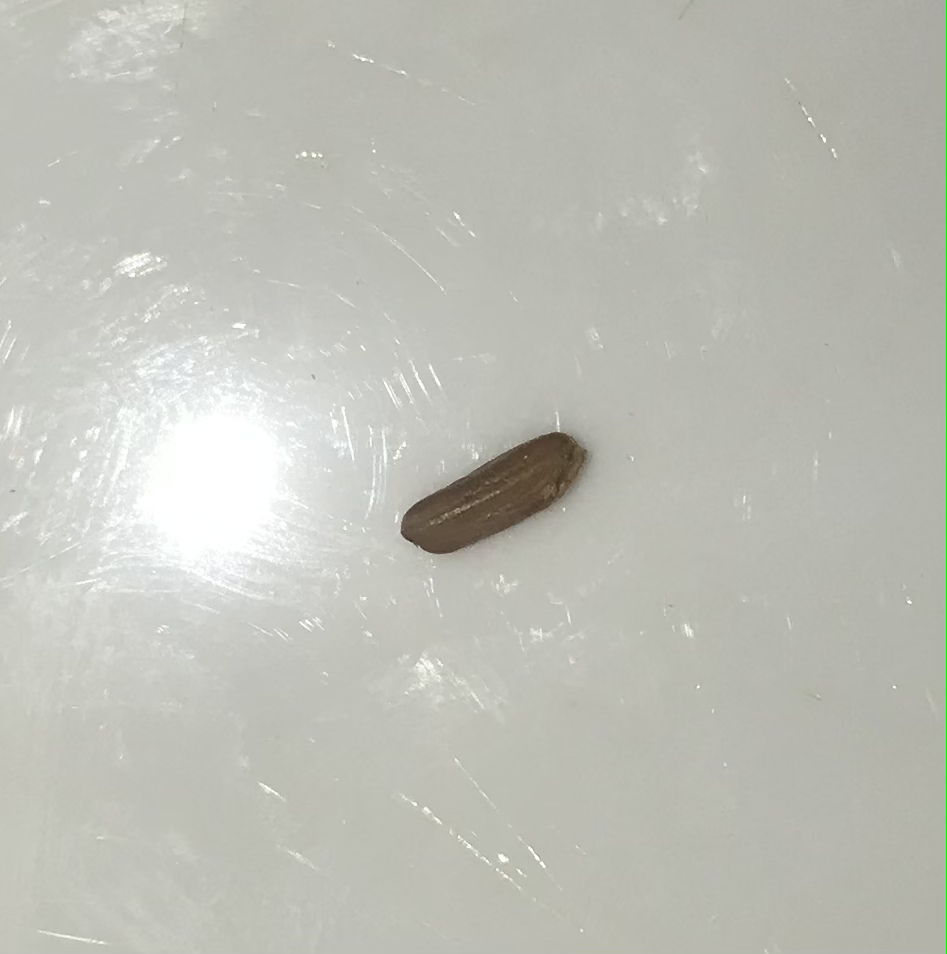Gao Lut Do: (399, 430, 590, 567)
